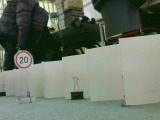speed_20: (12, 50, 35, 70)
